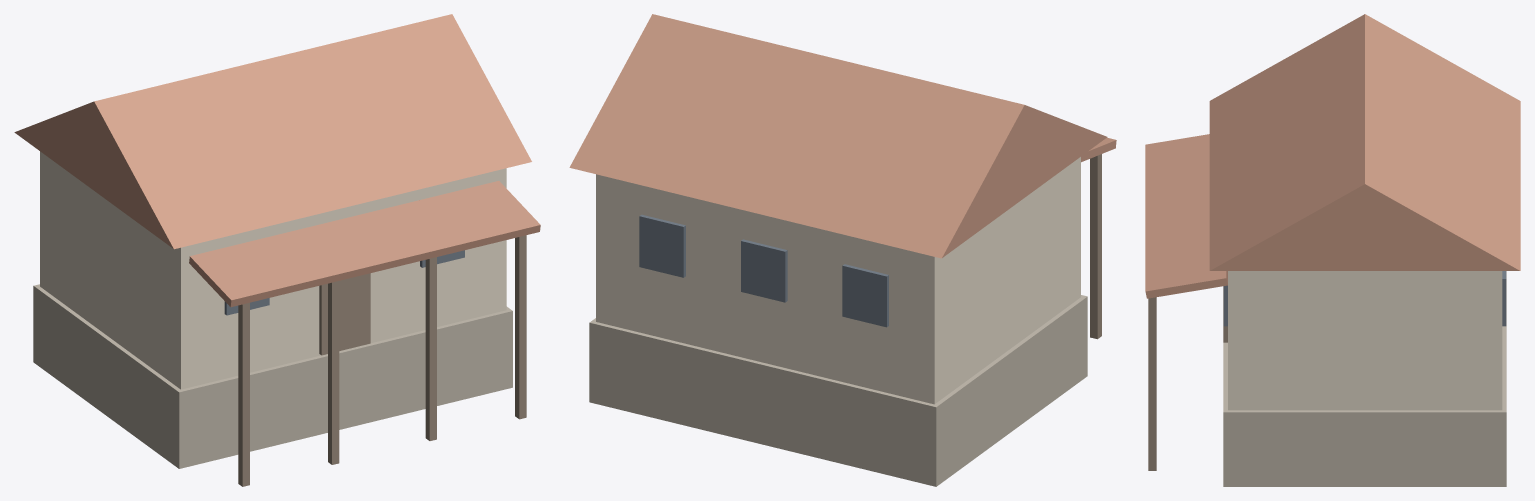
File: ranch_house.glb
The picture shows the model from 3 angles, left to right: view 1: azimuth 30°, elevation 25°; view 2: azimuth 150°, elevation 25°; view 3: azimuth 270°, elevation 25°; orthographic projection. The views are drawn at different scales.
Visible parts, largest first — view 1: ranch_house; view 2: ranch_house; view 3: ranch_house.
Boxes of the visible parts, x1=… form: ranch_house: x1=14, y1=14, x2=540, y2=486; ranch_house: x1=569, y1=14, x2=1116, y2=486; ranch_house: x1=1145, y1=14, x2=1520, y2=486.
Bounding box in the file's own units: 8.8 × 7.45 × 8.2.
